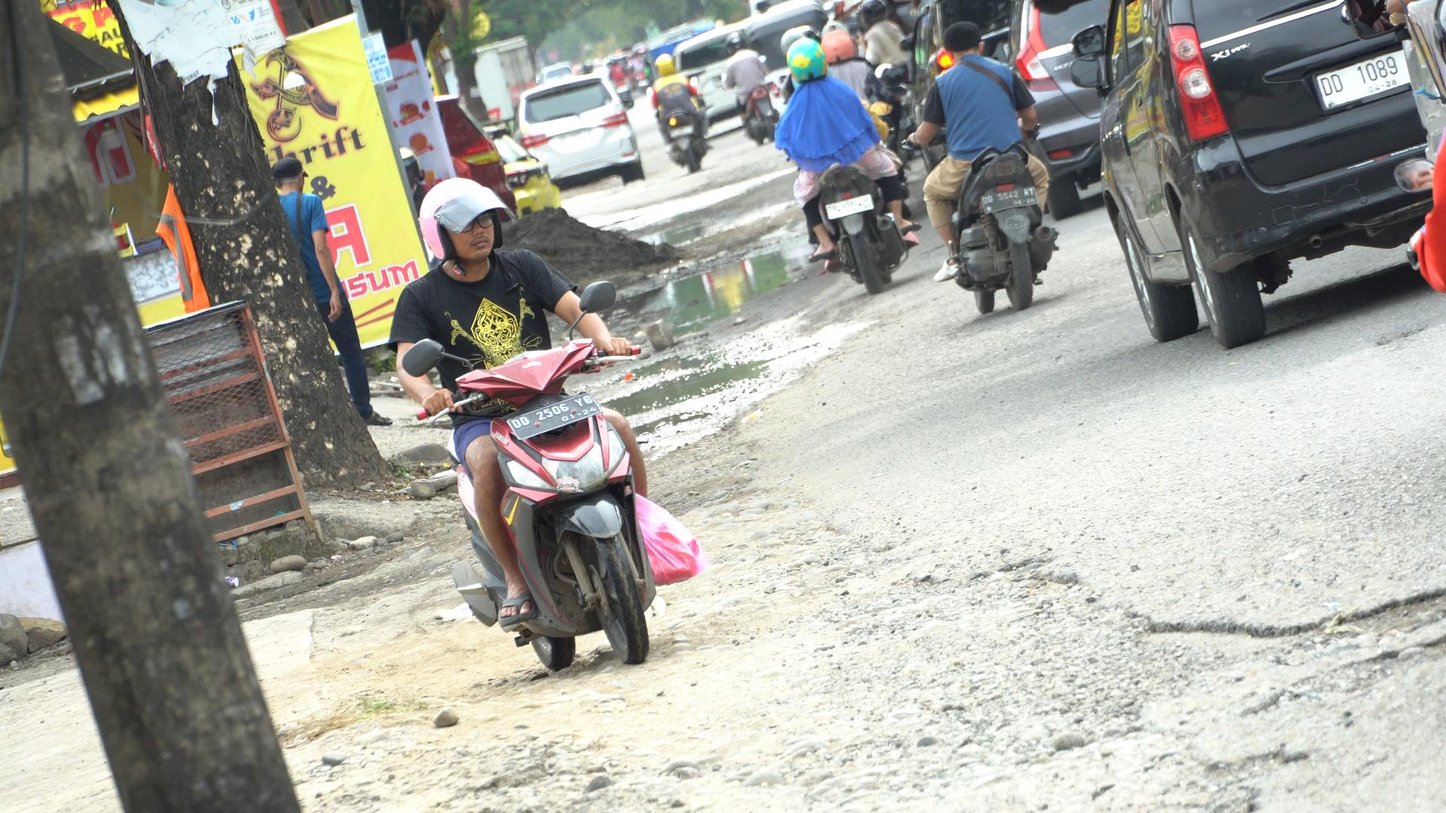number-plate: (505, 395, 605, 442)
